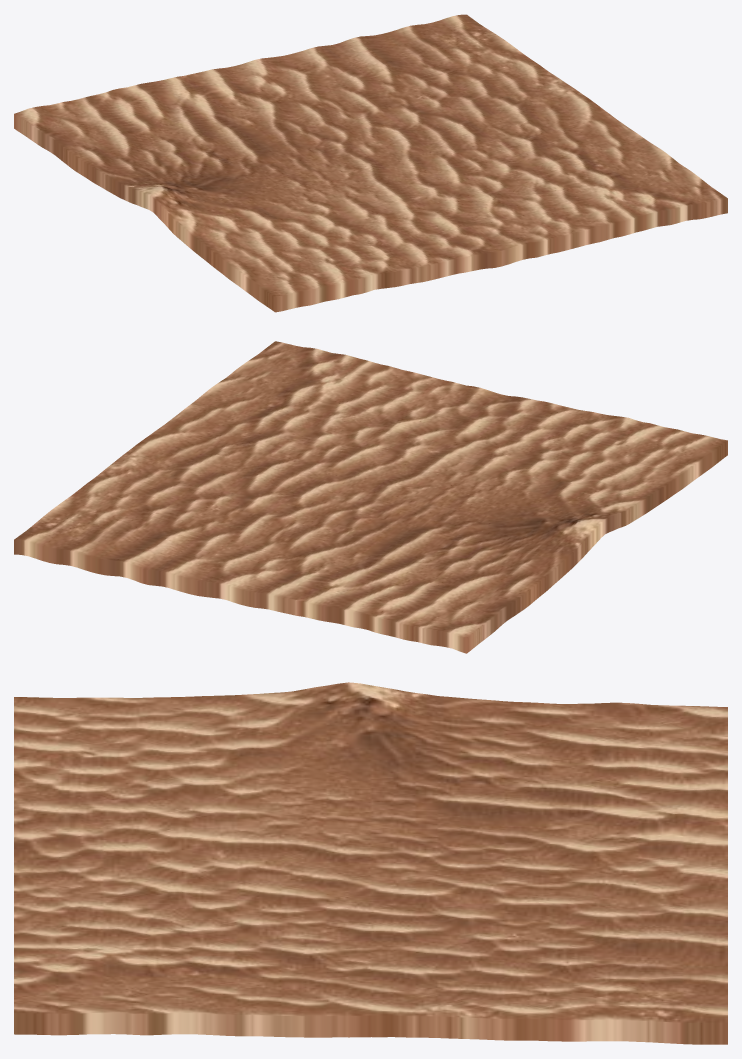
3 renders of one model, top to bottom at view 1: azimuth 30°, elevation 25°; view 2: azimuth 150°, elevation 25°; view 3: azimuth 270°, elevation 25°, orthographic. The views are drawn at different scales.
Parts seen in each view (by area): view 1: L6_31_54; view 2: L6_31_54; view 3: L6_31_54.
Part boxes in pixels (x1,y1,x2,y2): L6_31_54: (14,14,727,312); L6_31_54: (14,341,727,653); L6_31_54: (14,682,727,1044).
Size of the model in its own units: 225 by 20.97 by 225.
1 material, 1 textured.
